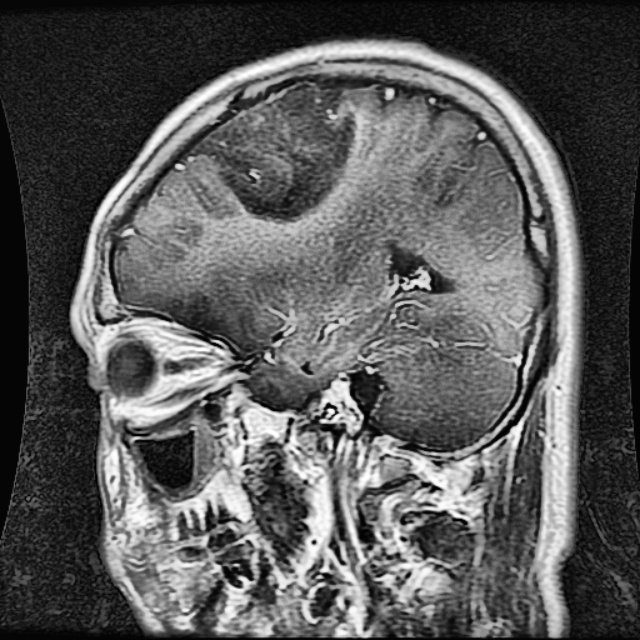Meningioma: (188, 88, 358, 222)
